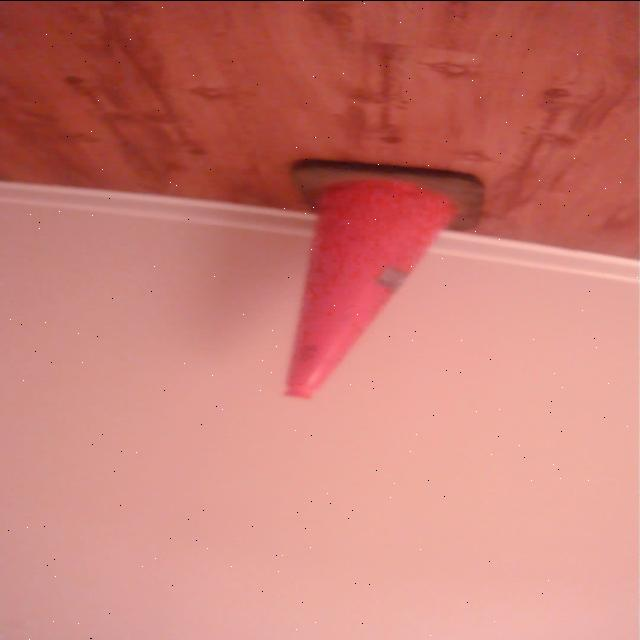traffic cone: (279, 156, 495, 402)
